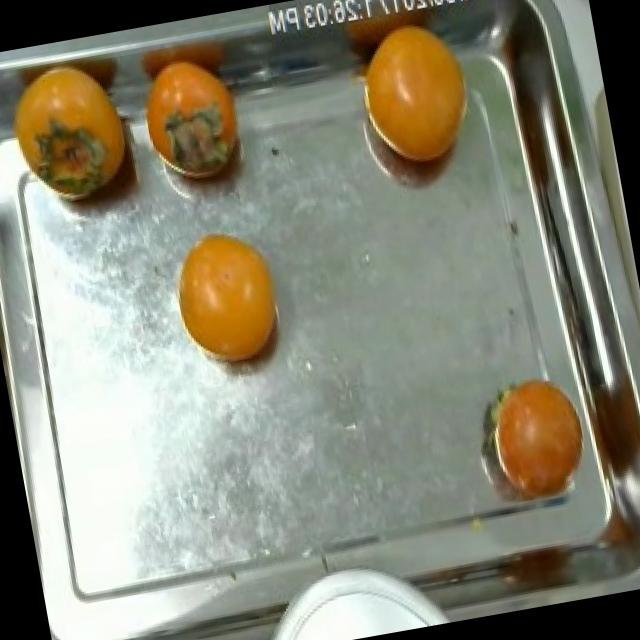Fruit: (0, 42, 153, 229), (340, 8, 491, 184), (157, 208, 300, 392), (132, 27, 270, 215), (456, 356, 598, 524)
